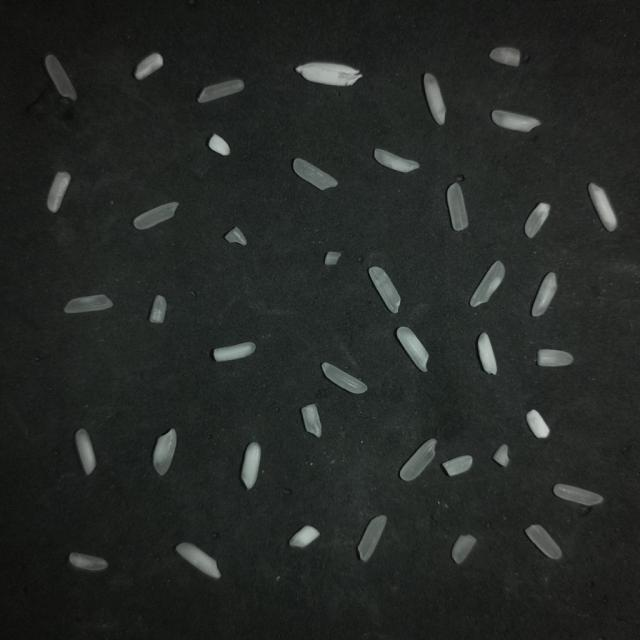broken: (452, 535, 476, 564), (442, 455, 472, 476), (537, 349, 573, 366), (149, 295, 166, 323), (225, 227, 246, 245), (493, 444, 509, 466), (324, 251, 342, 266)
chalky: (176, 543, 221, 579), (397, 327, 428, 371), (589, 184, 617, 231), (531, 272, 557, 317), (424, 74, 446, 125), (374, 149, 419, 173), (492, 110, 540, 132), (154, 429, 176, 475), (75, 429, 96, 474), (47, 172, 70, 212), (242, 442, 261, 489), (214, 342, 255, 361), (135, 53, 163, 79), (478, 333, 496, 373), (289, 525, 319, 548), (526, 410, 549, 438), (302, 404, 321, 437), (489, 47, 520, 66), (209, 134, 230, 156)
foreign: (296, 62, 361, 86)
whole: (470, 261, 504, 306), (44, 54, 77, 100), (400, 439, 436, 481), (369, 267, 400, 313), (322, 362, 367, 393), (293, 159, 337, 189), (358, 515, 386, 561), (525, 525, 561, 559), (134, 202, 178, 229), (198, 79, 244, 103), (554, 484, 603, 506), (447, 183, 468, 231), (64, 295, 113, 313), (525, 203, 550, 238), (69, 553, 108, 571)
